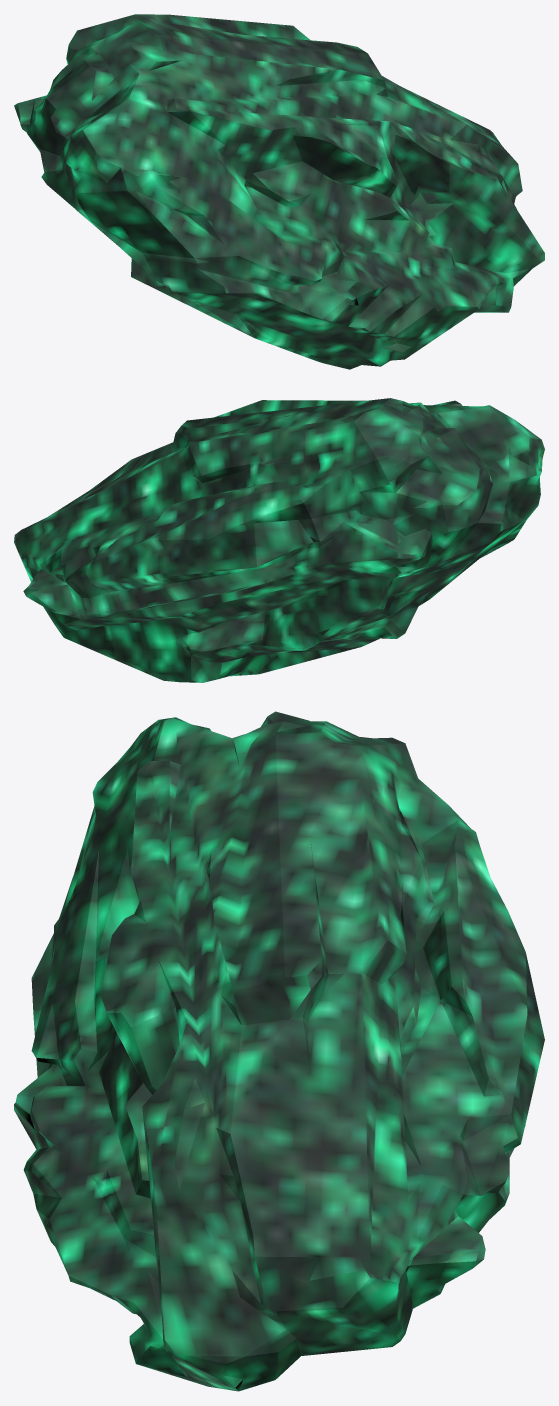
File: meteor_green_flow_shard_04.glb
3 views of the same model, one above another, from view 1: azimuth 30°, elevation 25°; view 2: azimuth 150°, elevation 25°; view 3: azimuth 270°, elevation 25° (orthographic). The views are drawn at different scales.
Visible parts, largest first — view 1: Mesh1.0; view 2: Mesh1.0; view 3: Mesh1.0.
Part boxes in pixels (bbox=[...]): Mesh1.0: bbox=[14, 14, 544, 369]; Mesh1.0: bbox=[14, 398, 544, 682]; Mesh1.0: bbox=[14, 711, 544, 1391].
Bounding box in the file's own units: 1.89 × 1.23 × 1.3.
Materials: 1 (1 with a texture image).
